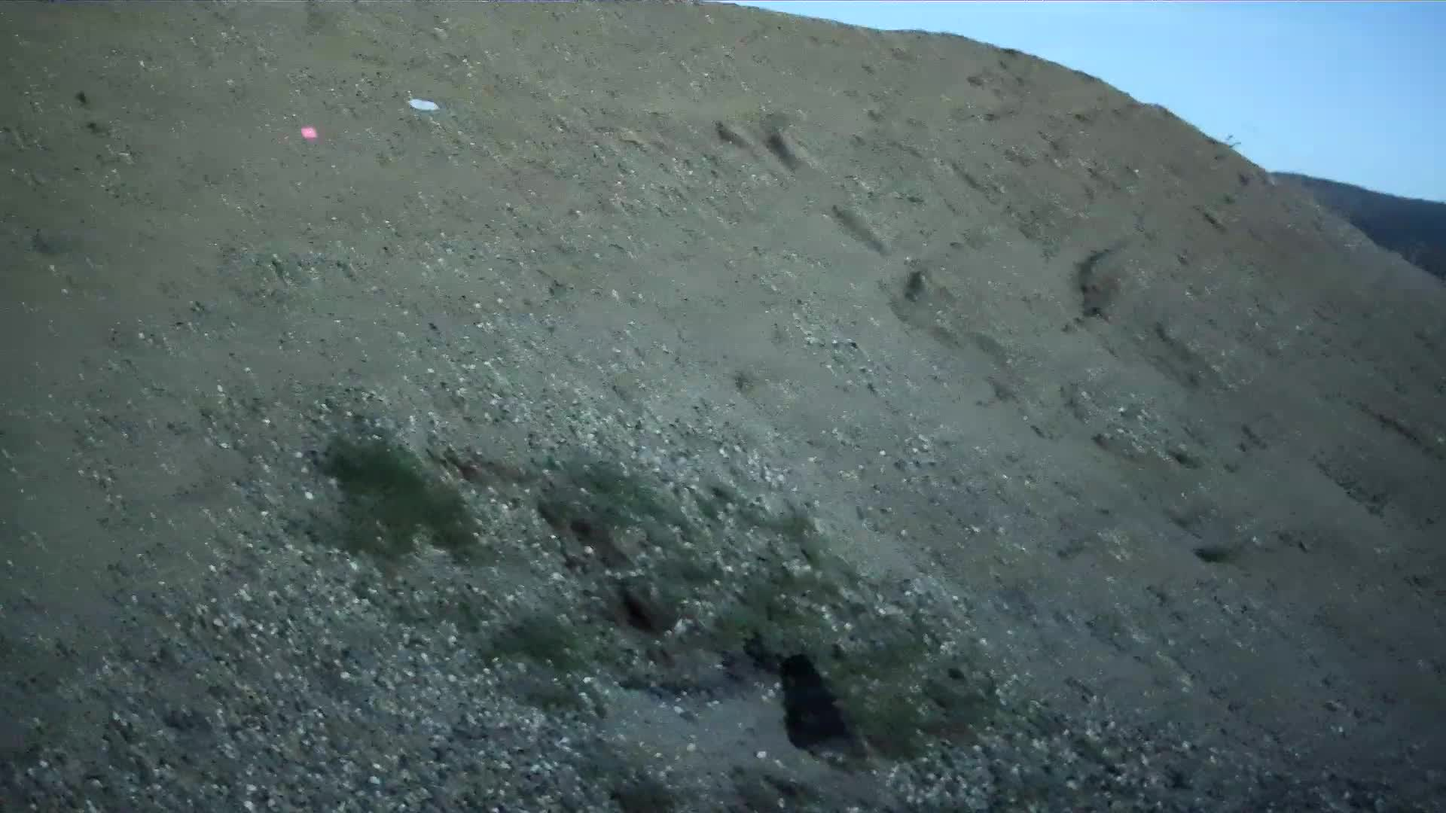Target: (408, 99, 438, 111)
